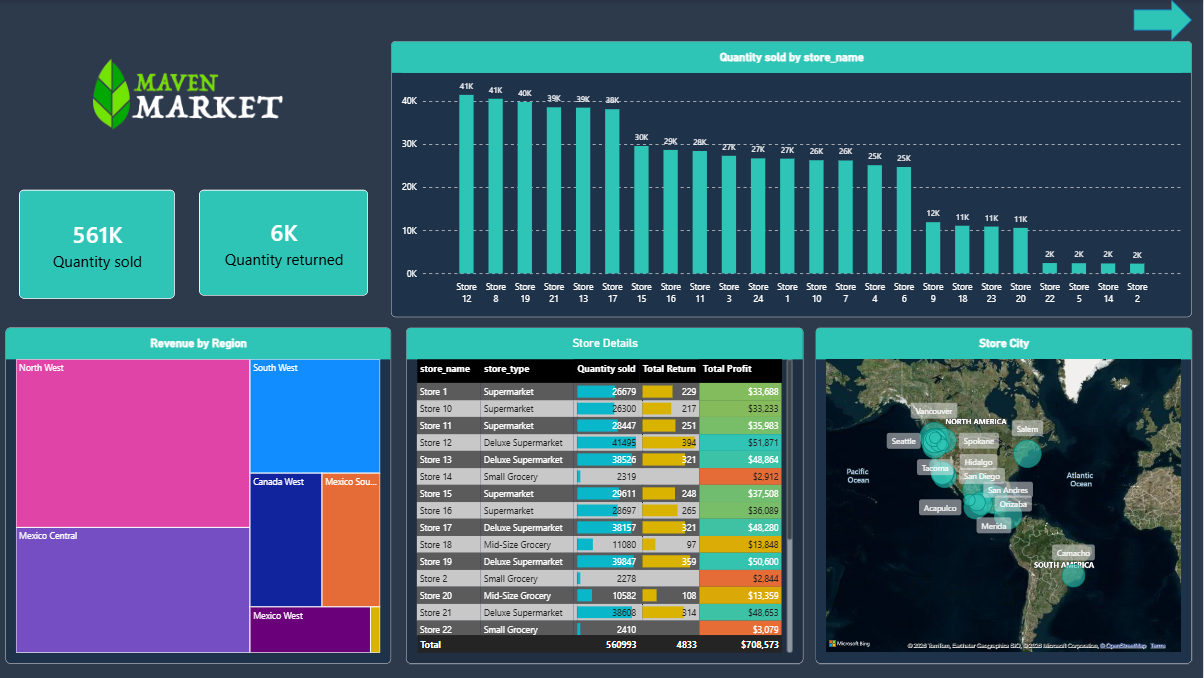

The page's visual inventory and layout, read from the dashboard file:
{"tool":"powerbi","page":{"name":"Stores","canvas":[1920,1080],"ordinal":1},"visuals":[{"type":"clusteredColumnChart","title":"Quantity sold by Store name","fields":{"Category":["Stores.store_name"],"Y":["Transactions_Data.Quantity sold"]},"box":[646.6,66.8,1257.4,439],"z":0},{"type":"tableEx","title":"Store Details","fields":{"Values":["Stores.store_name","Stores.store_type","Transactions_Data.Quantity sold","Returns_1997-1998.Total Return","Transactions_Data.Total Profit"]},"box":[646.6,522.5,639.4,534.4],"z":1000},{"type":"map","title":"Store City","fields":{"Category":["Stores.store_city"],"Size":["Transactions_Data.Total Transactions"]},"box":[1305.1,522.5,598.9,534.4],"z":2000},{"type":"treemap","title":"Revenue by Region","fields":{"Group":["Regions.sales_region"],"Values":["Transactions_Data.Total Revenue"]},"box":[16.7,522.5,613.2,534.4],"z":3000},{"type":"cardVisual","fields":{"Data":["Transactions_Data.Quantity sold"]},"box":[38.2,303,248.1,174.2],"z":4000},{"type":"cardVisual","fields":{"Data":["Transactions_Data.Quantity returned"]},"box":[324.5,303,269.6,169.4],"z":5000},{"type":"image","box":[38.2,47.7,539.2,210],"z":6000},{"type":"shape","box":[1810.9,0,93.1,66.8],"z":7000}]}

Visuals, with their boxes in screenshot pixels (x1, y1, x2, y2), scaled from the page's 1920x1080 canvas onto the 1204x678 screenshot:
"Quantity sold by Store name" clusteredColumnChart: Rect(405, 42, 1194, 318)
"Store Details" tableEx: Rect(405, 328, 806, 663)
"Store City" map: Rect(818, 328, 1194, 663)
"Revenue by Region" treemap: Rect(10, 328, 395, 663)
cardVisual - Transactions_Data.Quantity sold: Rect(24, 190, 180, 300)
cardVisual - Transactions_Data.Quantity returned: Rect(203, 190, 373, 297)
image: Rect(24, 30, 362, 162)
shape: Rect(1136, 0, 1194, 42)
